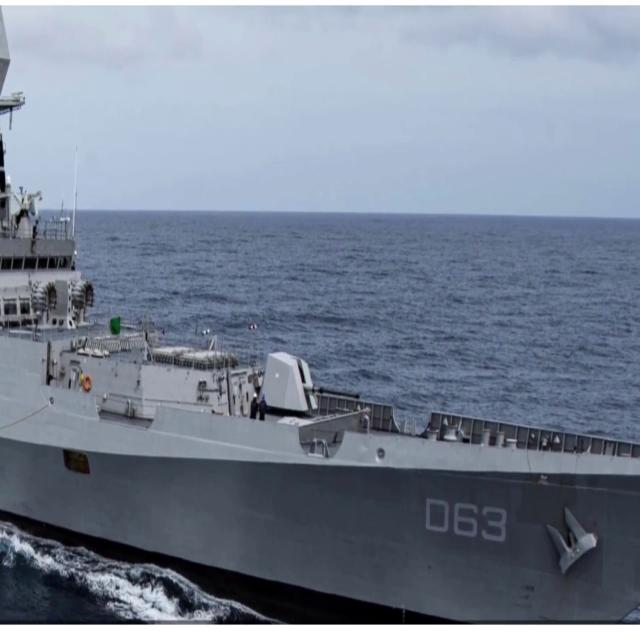OCR: (422, 494, 508, 546)
